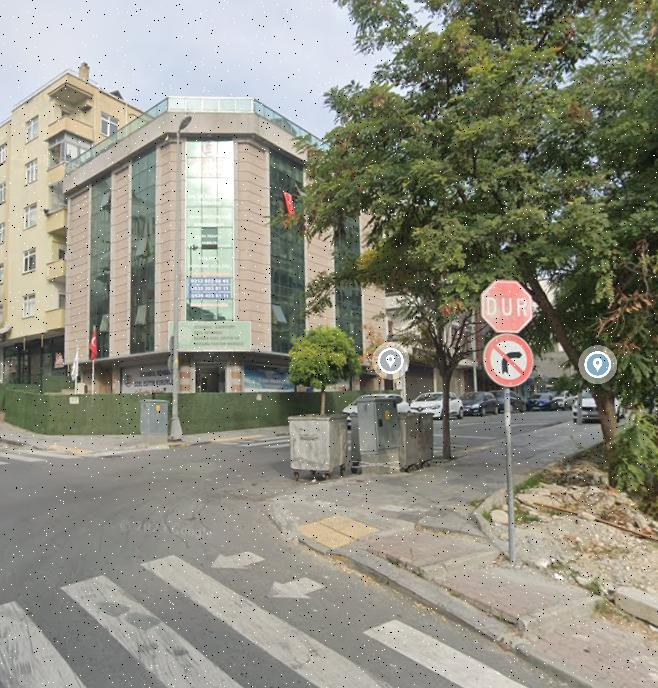rightturnsareforbidden: (484, 334, 534, 386)
stop: (481, 281, 533, 334)
